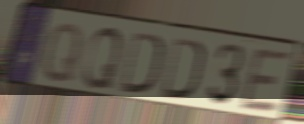3: (207, 42, 246, 109)
D: (159, 35, 206, 103), (118, 29, 165, 97)
E: (237, 45, 295, 116)
Q: (80, 25, 125, 92), (40, 20, 85, 86)
